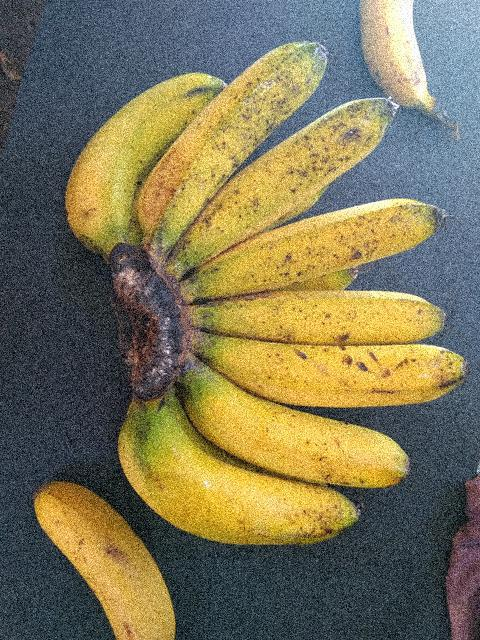ripe: (136, 39, 327, 253), (102, 418, 378, 558), (142, 364, 436, 492), (190, 108, 396, 260), (218, 192, 466, 307), (116, 288, 445, 368), (195, 332, 479, 419), (34, 482, 187, 639), (65, 78, 192, 258)
